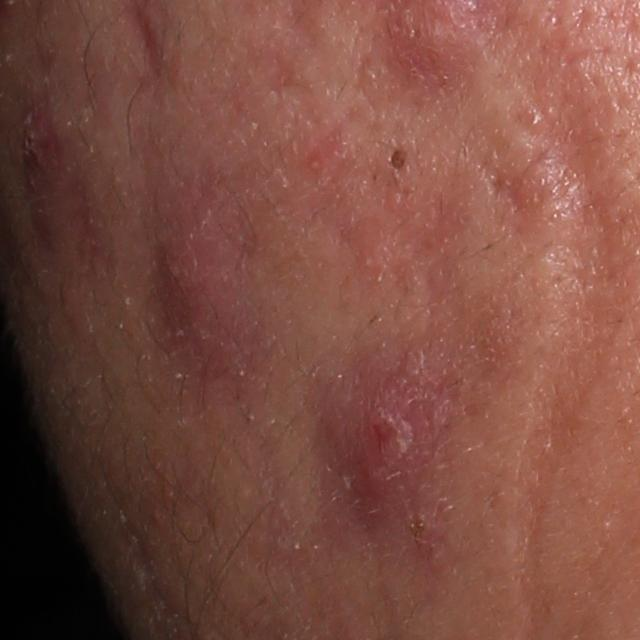comedo: (382, 136, 414, 176)
nodule: (312, 341, 476, 537), (158, 184, 261, 386)
